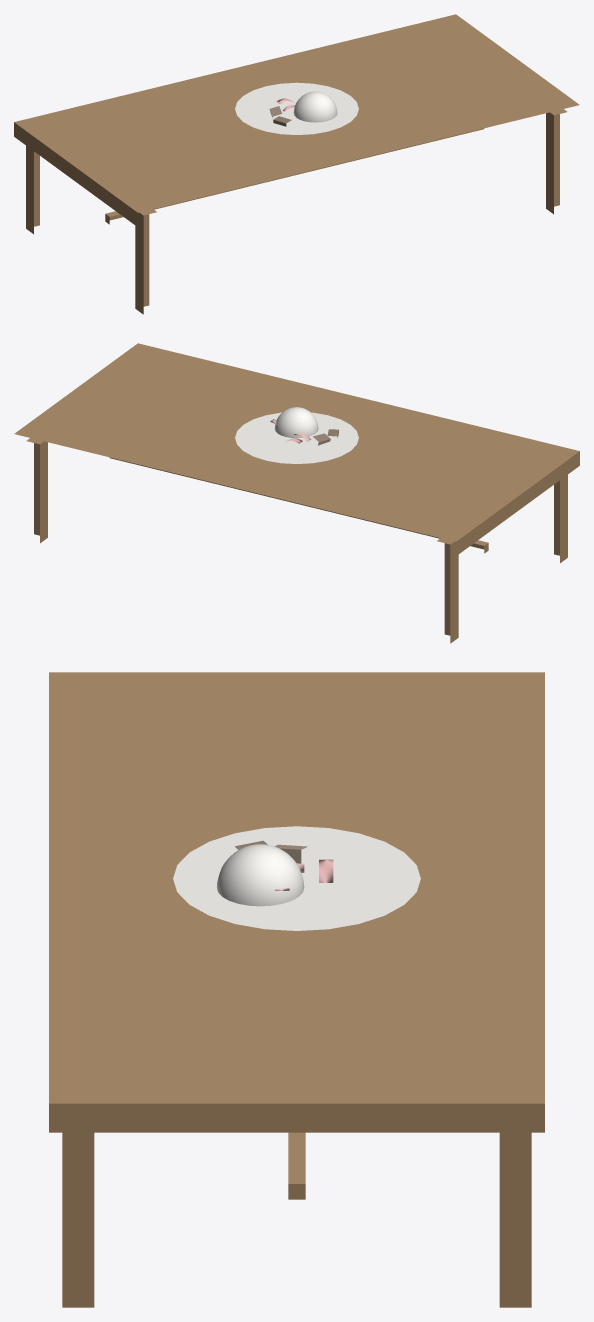
File: mariscos_mesa.glb
3 views of the same model, one above another, from view 1: azimuth 30°, elevation 25°; view 2: azimuth 150°, elevation 25°; view 3: azimuth 270°, elevation 25° (orthographic). The views are drawn at different scales.
Parts seen in each view (by area): view 1: tablero, pata (×3), plato, arroz, refuerzo; view 2: tablero, pata (×3), plato, arroz, refuerzo; view 3: tablero, plato, pata (×2), arroz, refuerzo.
Boxes of the visible parts, x1,y1,x2,y2 form: tablero: (14,14,579,226); pata (×3): (26,109,567,314); plato: (235,82,358,134); arroz: (293,91,337,122); refuerzo: (105,128,484,224); tablero: (14,343,579,555); pata (×3): (26,438,567,643); plato: (235,412,358,463); arroz: (274,407,318,438); refuerzo: (109,457,488,553); tablero: (49,672,544,1132); plato: (173,826,420,930); pata (×2): (62,1132,531,1307); arroz: (216,844,304,906); refuerzo: (288,1132,305,1199).
Bounding box in the file's own units: 7 × 1.98 × 3.4.
